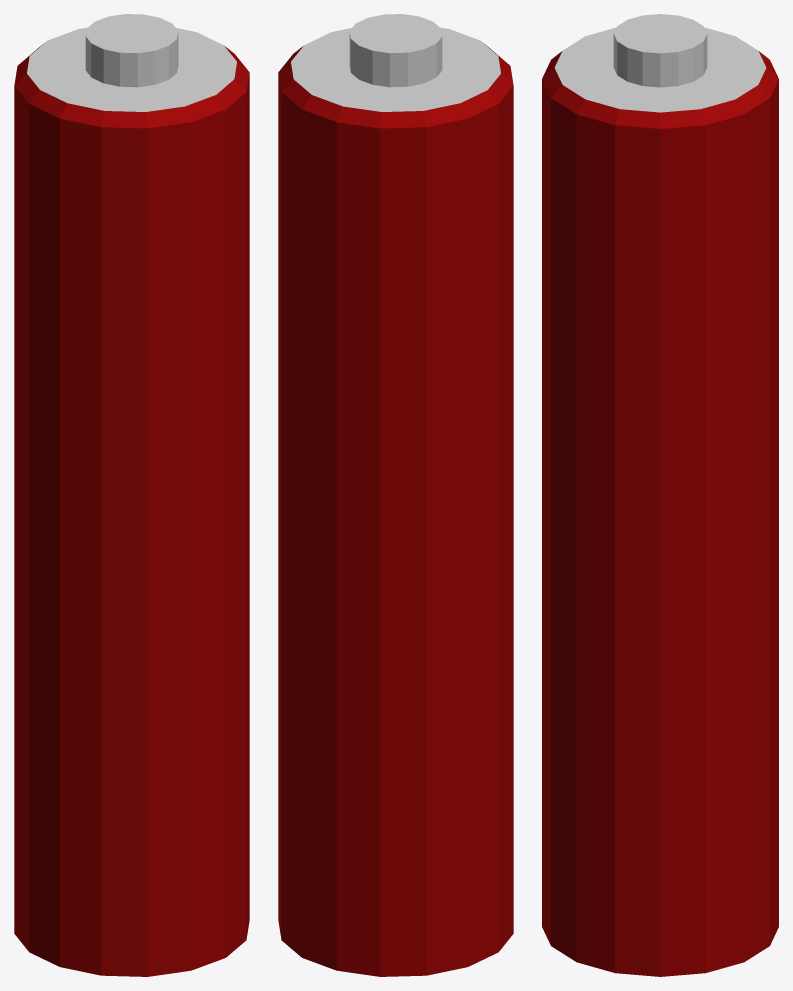
The model's file is Battery_01.fbx.
3 renders of one model, left to right at view 1: azimuth 30°, elevation 25°; view 2: azimuth 150°, elevation 25°; view 3: azimuth 270°, elevation 25°, orthographic.
Parts seen in each view (by area): view 1: Battery_01; view 2: Battery_01; view 3: Battery_01.
Boxes of the visible parts, left/top/right/bottom form: Battery_01: left=14, top=14, right=249, bottom=976; Battery_01: left=278, top=14, right=513, bottom=976; Battery_01: left=542, top=14, right=778, bottom=976.
Size of the model in its own units: 5.45 by 22.66 by 5.45.
